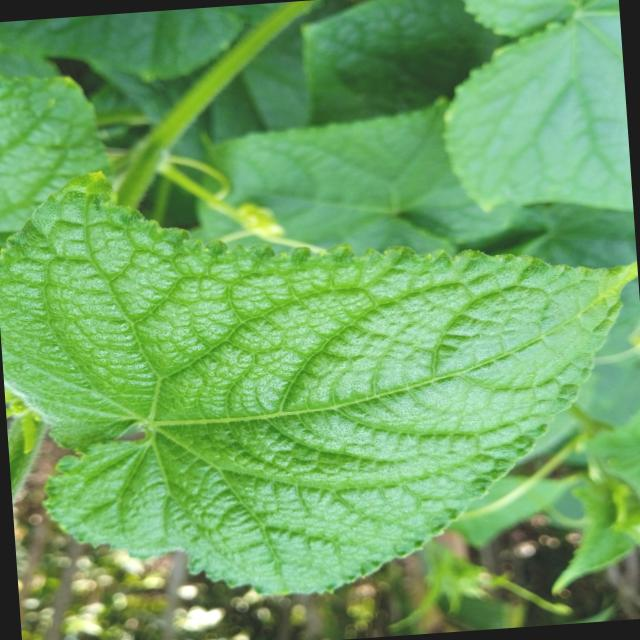cucumber_healthy: (0, 128, 640, 619), (433, 8, 632, 250), (0, 56, 142, 242)
